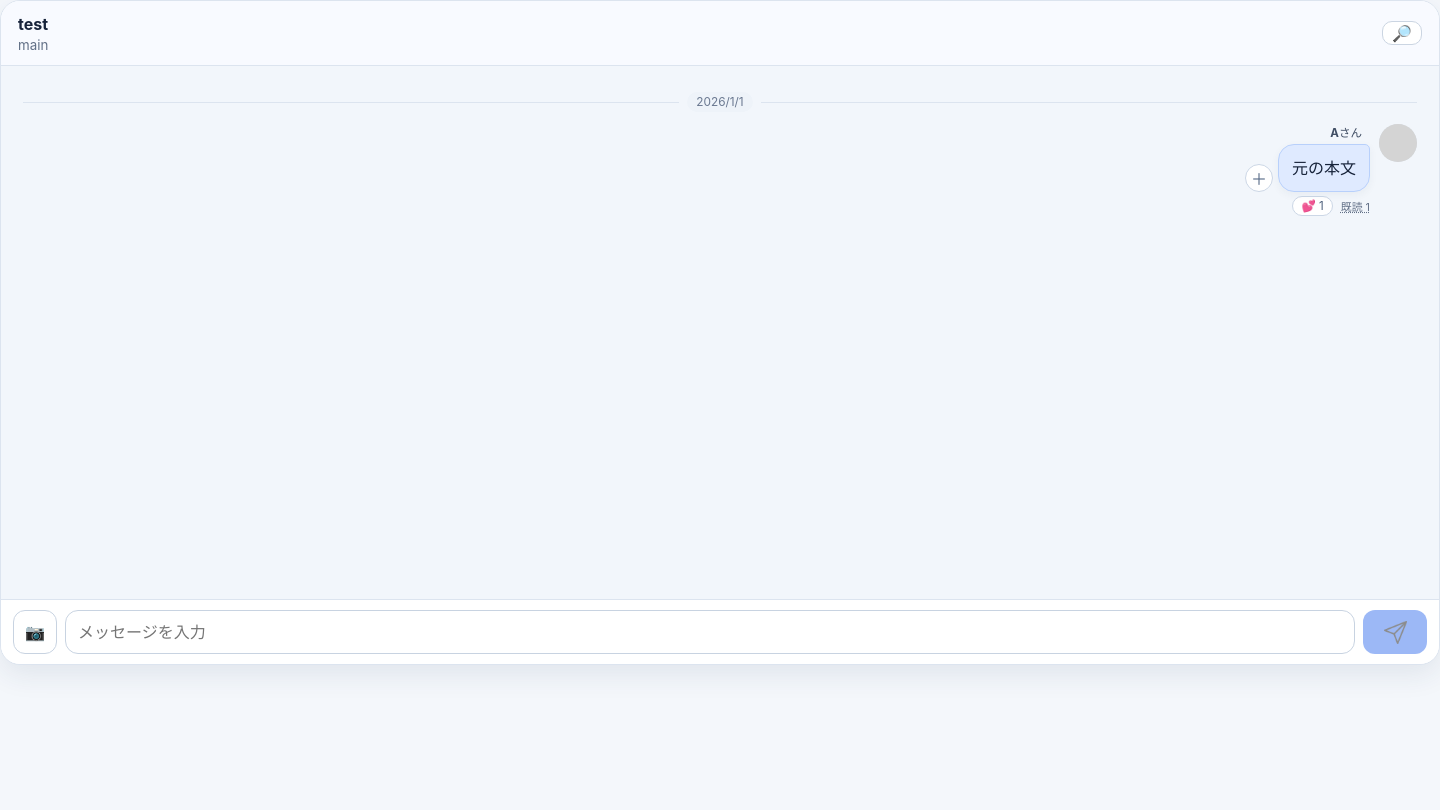
Test case: chat missing legacy features › places reactions and read details together in the message footer
Check: the element with class "chat-reactions" reads "💕 1", box [1292,196,1333,216]
Click the button with class "chat-readers": (1355, 206) [1341,196,1370,216]
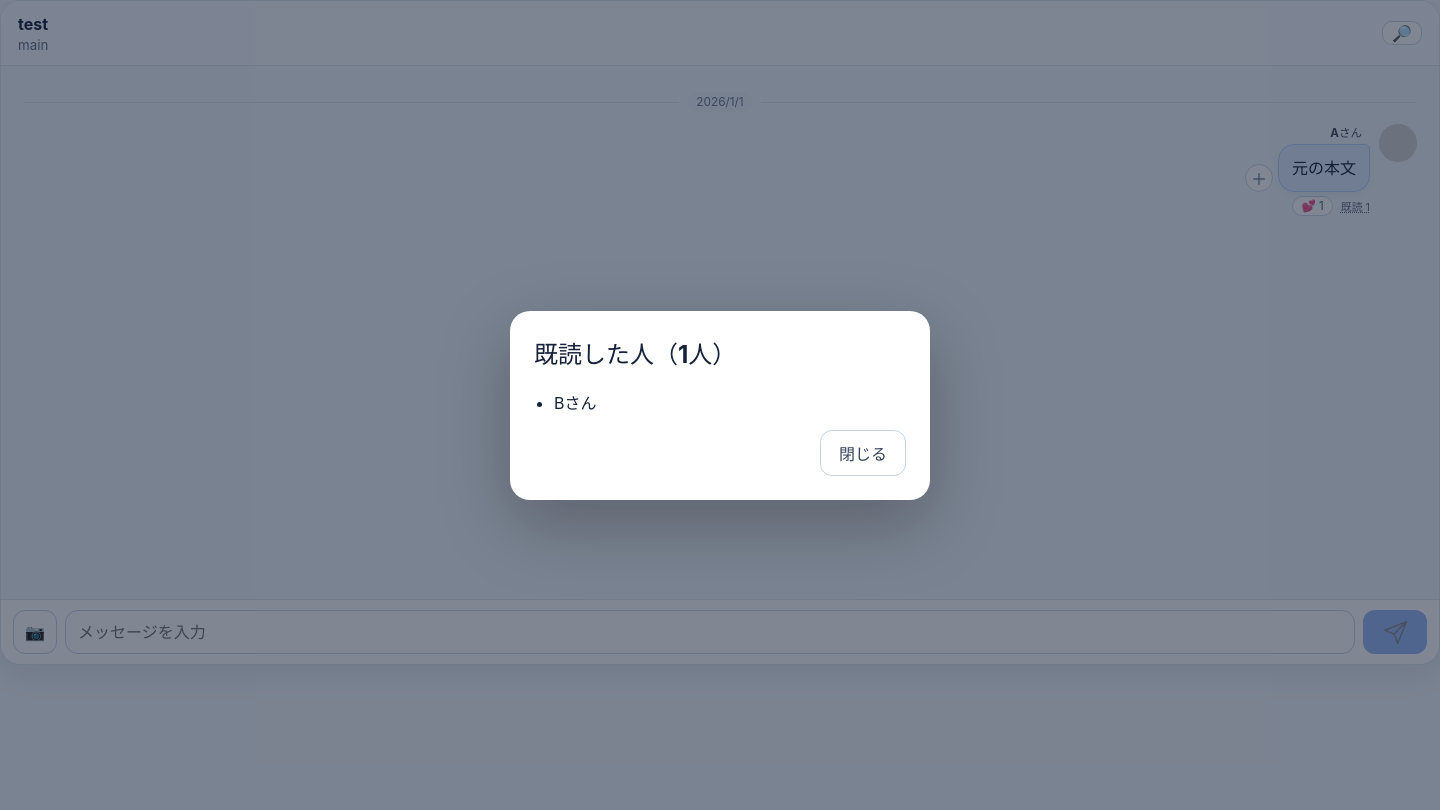
Check: the list with class "chat-actor-list" reads "Bさん", box [554,392,596,412]
